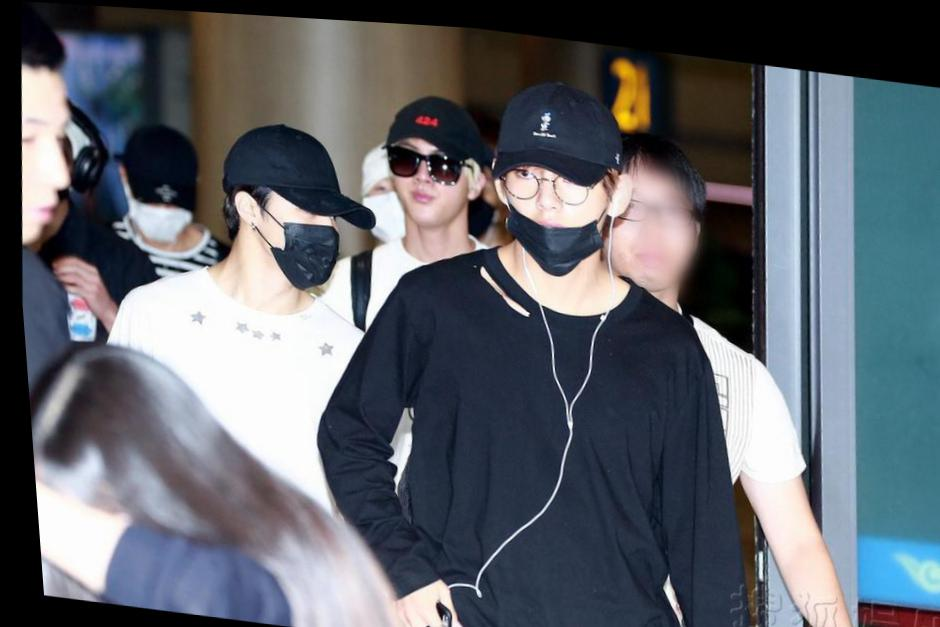NONE: (11, 111, 81, 254), (385, 135, 472, 221)
OK: (244, 189, 344, 287), (122, 181, 196, 244)
WRONG: (496, 143, 614, 259)
